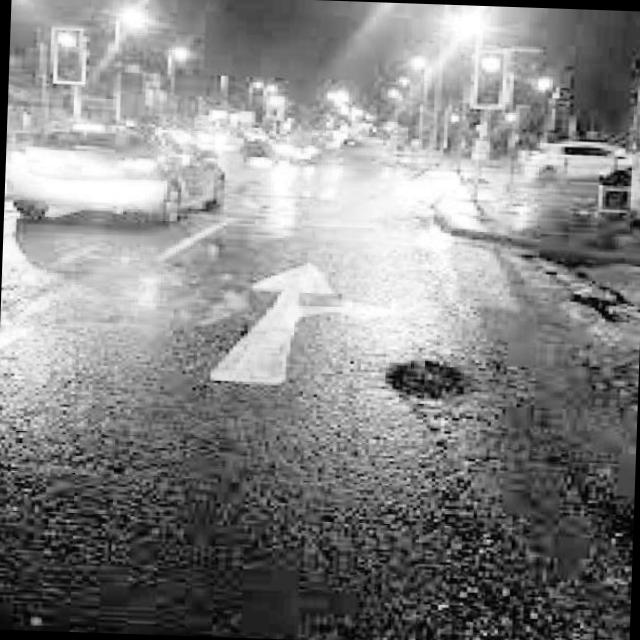Pothole: (366, 337, 482, 422)
